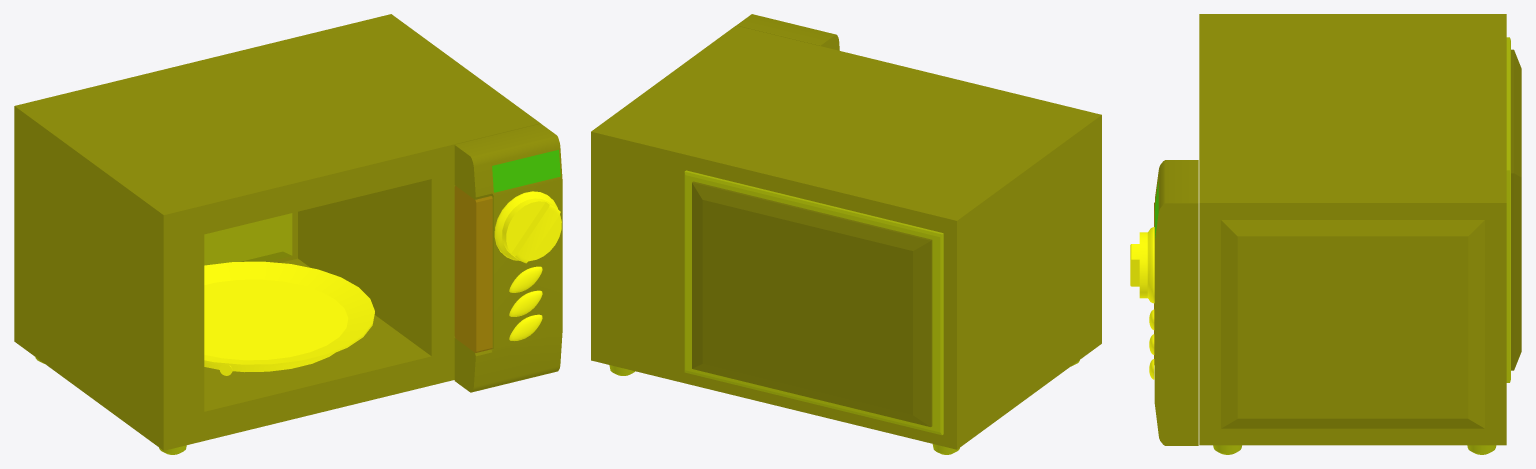
Rendered from SM_Microwave01.glb.
3 renders of one model, left to right at view 1: azimuth 30°, elevation 25°; view 2: azimuth 150°, elevation 25°; view 3: azimuth 270°, elevation 25°, orthographic. The views are drawn at different scales.
Visible parts, largest first — view 1: SM_Microwave01; view 2: SM_Microwave01; view 3: SM_Microwave01.
Part boxes in pixels (x1,y1,x2,y2): SM_Microwave01: (14, 14, 562, 454); SM_Microwave01: (591, 14, 1101, 454); SM_Microwave01: (1130, 14, 1521, 454).
Size of the model in its own units: 0.6842 by 0.4293 by 0.5881.
1 material, 1 textured.
